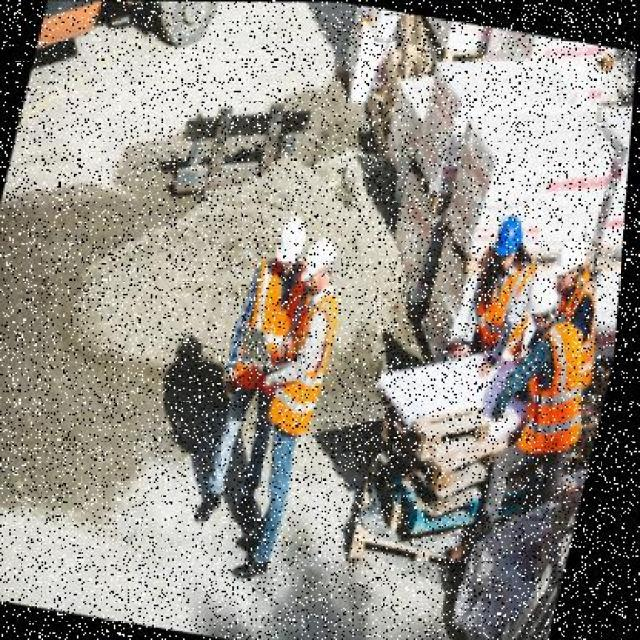helmet: (551, 223, 605, 293), (485, 212, 535, 272), (269, 216, 313, 273), (302, 236, 345, 290)
vest: (519, 312, 608, 465), (272, 285, 350, 444), (245, 259, 313, 353), (474, 276, 526, 354)
